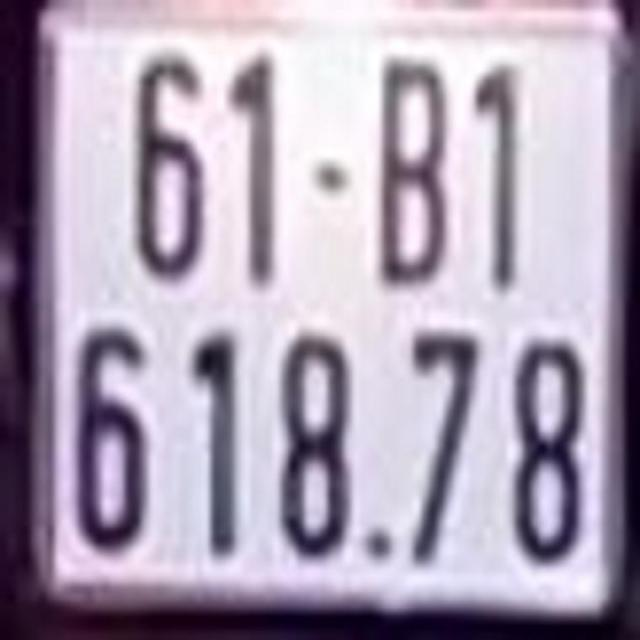1: (471, 57, 523, 290), (228, 50, 278, 288), (194, 330, 241, 553)
6: (74, 322, 151, 549), (138, 43, 206, 284)
7: (411, 331, 481, 564)
8: (282, 330, 350, 556), (514, 338, 576, 562)
B: (378, 51, 445, 280)
